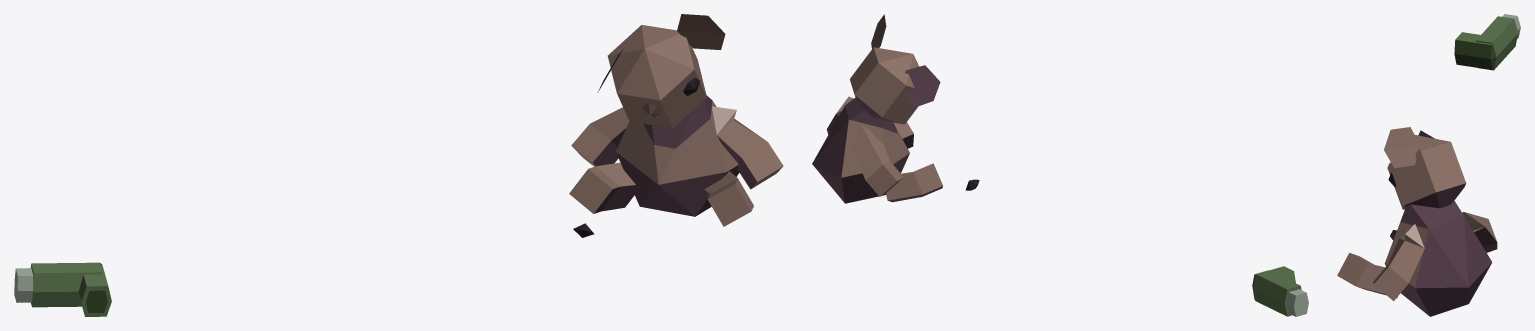
File: Character04_Assets.fbx
3 views of the same model, side by side, from view 1: azimuth 30°, elevation 25°; view 2: azimuth 150°, elevation 25°; view 3: azimuth 270°, elevation 25° (orthographic). The views are drawn at different scales.
Visible parts, largest first — view 1: Mesh_Teddybear, Mesh_Inhaler; view 2: Mesh_Teddybear, Mesh_Inhaler; view 3: Mesh_Teddybear, Mesh_Inhaler.
Boxes of the visible parts, left/top/right/bottom form: Mesh_Teddybear: left=569, top=14, right=783, bottom=237; Mesh_Inhaler: left=14, top=262, right=111, bottom=316; Mesh_Teddybear: left=812, top=14, right=979, bottom=203; Mesh_Inhaler: left=1252, top=266, right=1308, bottom=316; Mesh_Teddybear: left=1337, top=127, right=1497, bottom=316; Mesh_Inhaler: left=1454, top=14, right=1520, bottom=70.
Size of the model in its own units: 12.79 by 3.62 by 3.76.
